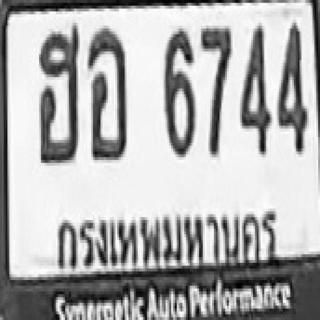A43: (88, 26, 126, 157)
A44: (36, 24, 79, 161)
N04: (238, 21, 270, 153), (275, 20, 307, 152)
N06: (163, 26, 194, 154)
N07: (199, 26, 231, 154)
P04: (53, 201, 282, 276)
